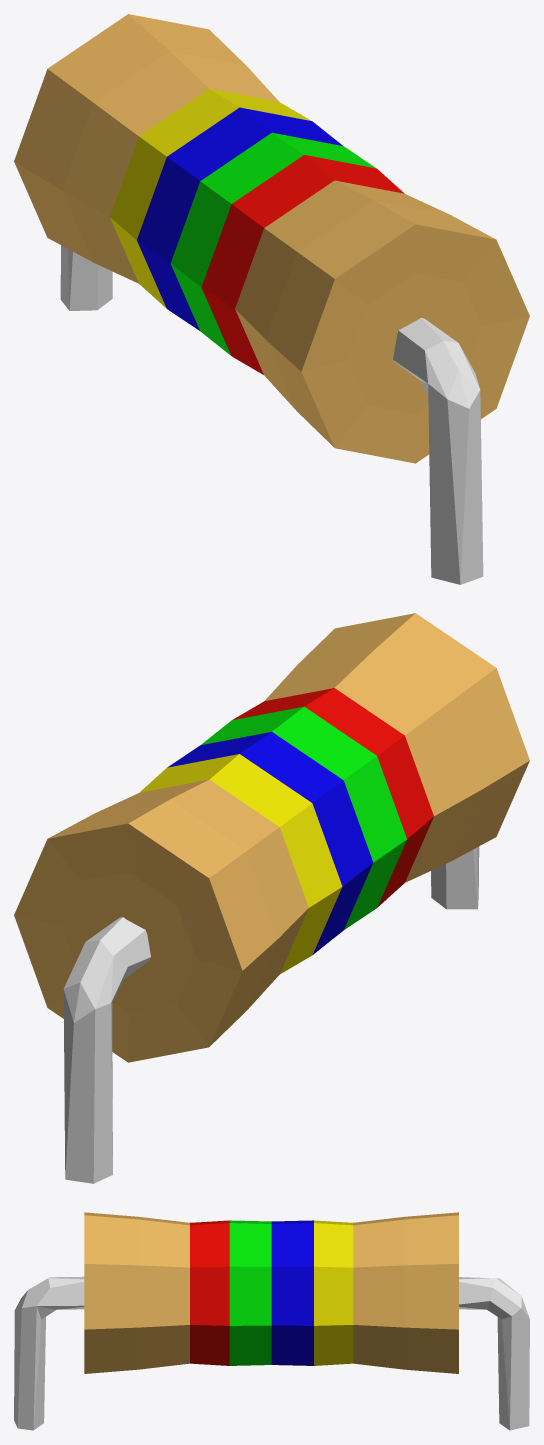
File: Resistor_Item.fbx
The picture shows the model from 3 angles, top to bottom: view 1: azimuth 30°, elevation 25°; view 2: azimuth 150°, elevation 25°; view 3: azimuth 270°, elevation 25°; orthographic projection. The views are drawn at different scales.
Visible parts, largest first — view 1: Cylinder; view 2: Cylinder; view 3: Cylinder.
Boxes of the visible parts, bbox=[...] form: Cylinder: bbox=[14, 14, 529, 584]; Cylinder: bbox=[14, 613, 529, 1183]; Cylinder: bbox=[14, 1212, 529, 1430].
Size of the model in its own units: 19.91 by 26.54 by 59.69.
